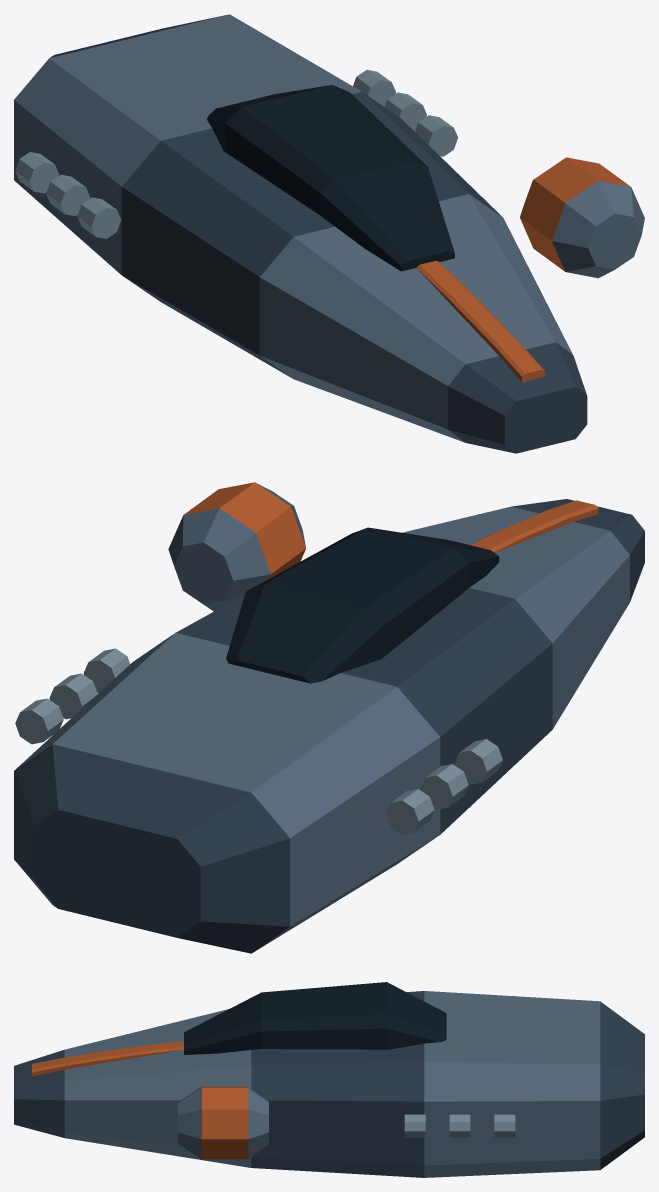
The model's file is FangBody.obj.
3 views of the same model, one above another, from view 1: azimuth 30°, elevation 25°; view 2: azimuth 150°, elevation 25°; view 3: azimuth 270°, elevation 25° (orthographic). The views are drawn at different scales.
Visible parts, largest first — view 1: fuselage, canopy, starboard_cannon_housing, copper_spine, port_hinge, starboard_hinge; view 2: fuselage, canopy, starboard_cannon_housing, port_hinge, starboard_hinge, copper_spine; view 3: fuselage, canopy, starboard_cannon_housing, copper_spine, starboard_hinge.
Part boxes in pixels (x1,y1,x2,y2): fuselage: (14, 14, 587, 453); canopy: (206, 85, 454, 271); starboard_cannon_housing: (520, 157, 644, 278); copper_spine: (416, 260, 545, 382); port_hinge: (15, 152, 121, 238); starboard_hinge: (353, 70, 458, 156); fuselage: (14, 499, 644, 953); canopy: (226, 527, 499, 683); starboard_cannon_housing: (168, 482, 306, 611); port_hinge: (386, 739, 502, 834); starboard_hinge: (15, 648, 129, 744); copper_spine: (470, 500, 598, 552); fuselage: (14, 991, 644, 1177); canopy: (184, 982, 446, 1054); starboard_cannon_housing: (178, 1086, 268, 1159); copper_spine: (32, 1041, 183, 1076); starboard_hinge: (404, 1114, 515, 1137).
Size of the model in its own units: 2.3 by 1.07 by 4.23.
